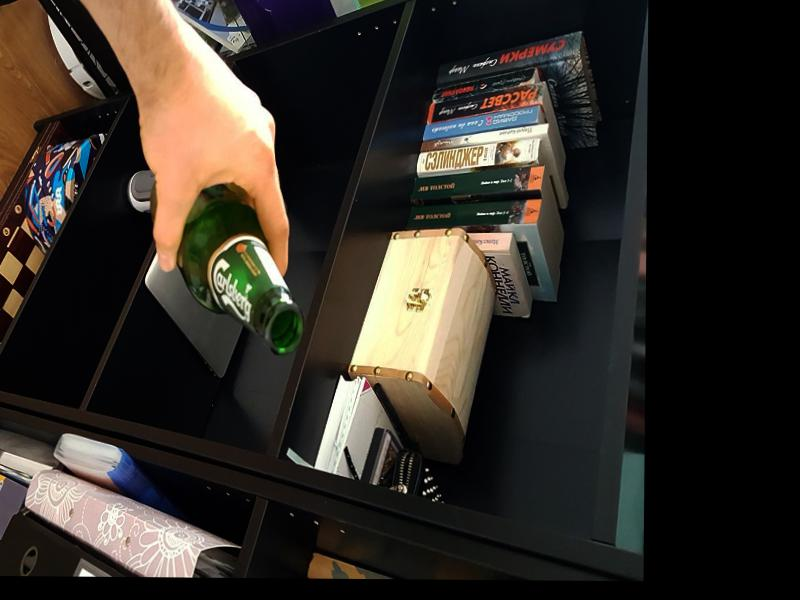Beer: (148, 172, 303, 356)
